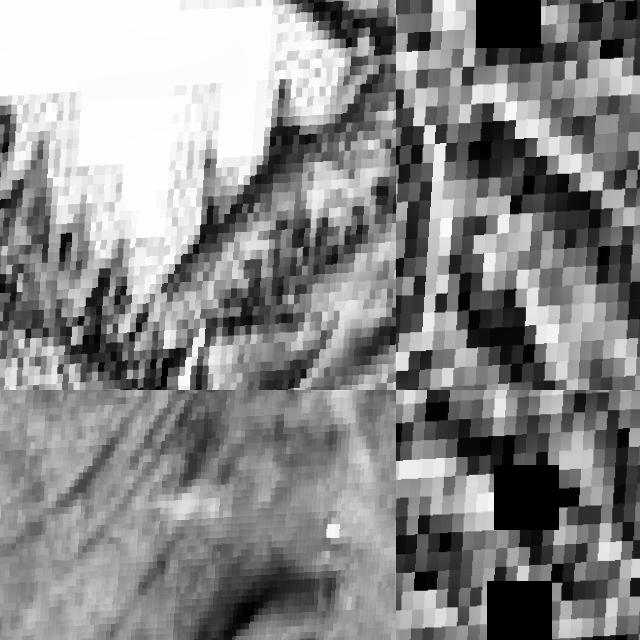crab: (0, 0, 396, 390), (396, 0, 640, 390), (396, 390, 640, 640)
fish: (0, 390, 396, 640)
